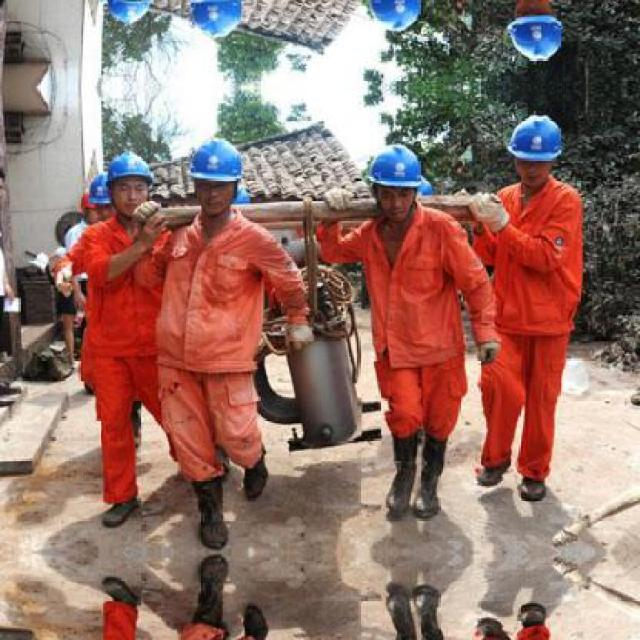helmet: (361, 136, 427, 227), (184, 130, 247, 218), (504, 105, 564, 187), (503, 0, 565, 68), (98, 144, 154, 218), (183, 0, 248, 43), (360, 0, 428, 37), (97, 0, 155, 29), (87, 172, 116, 225), (75, 182, 100, 224)
